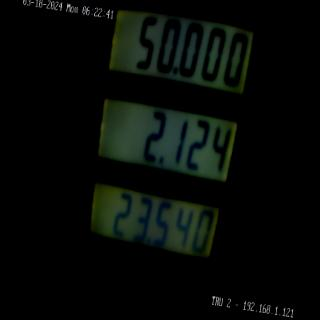screen: (71, 0, 266, 300)
